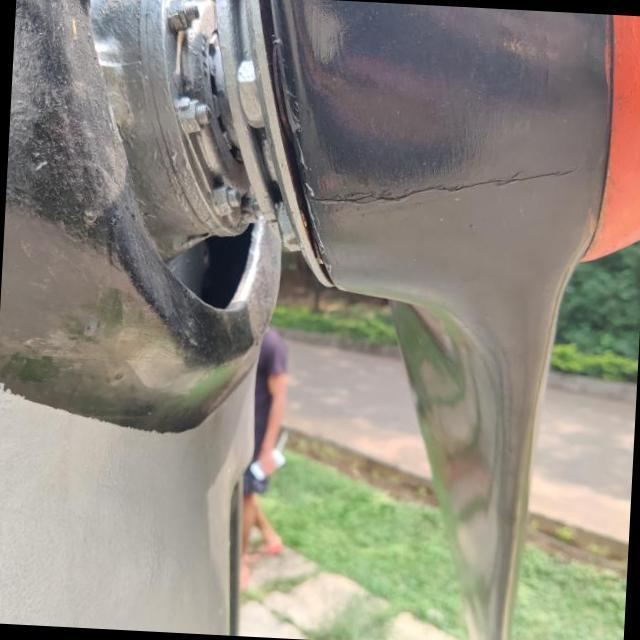Rupture: (300, 130, 586, 256)
